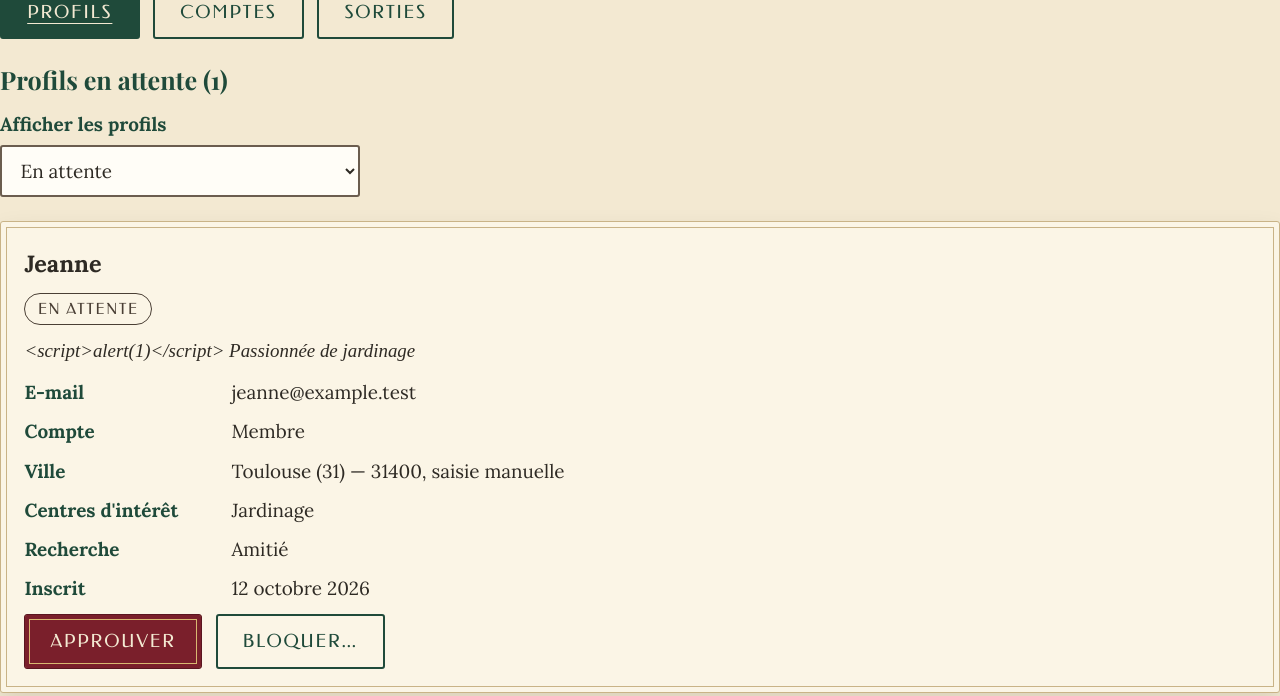
Scenario: file des profils › profil incomplet : le refus de l'API est affiché tel quel
(page scrolled)
Click the button "Approuver". click: (113, 642)
box: [24, 614, 202, 669]
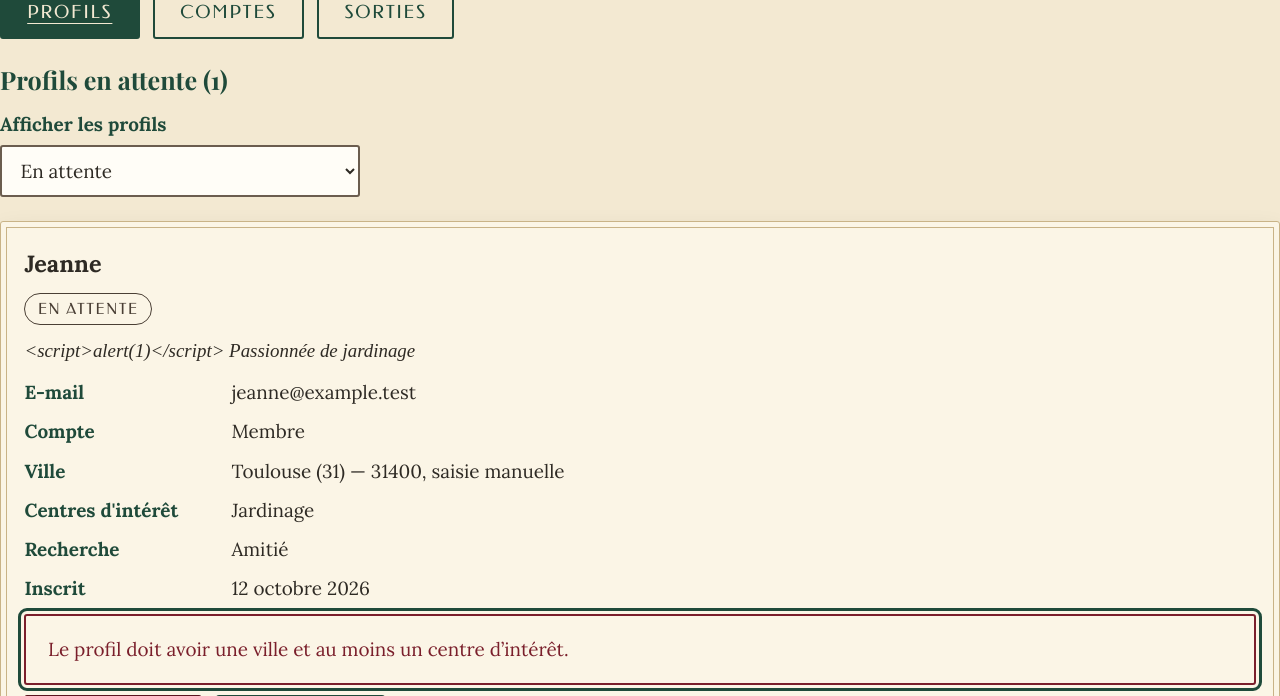
Now the message "Le profil doit avoir une ville et au moins un centre d’intérêt." is shown, box [24, 614, 1256, 685]
